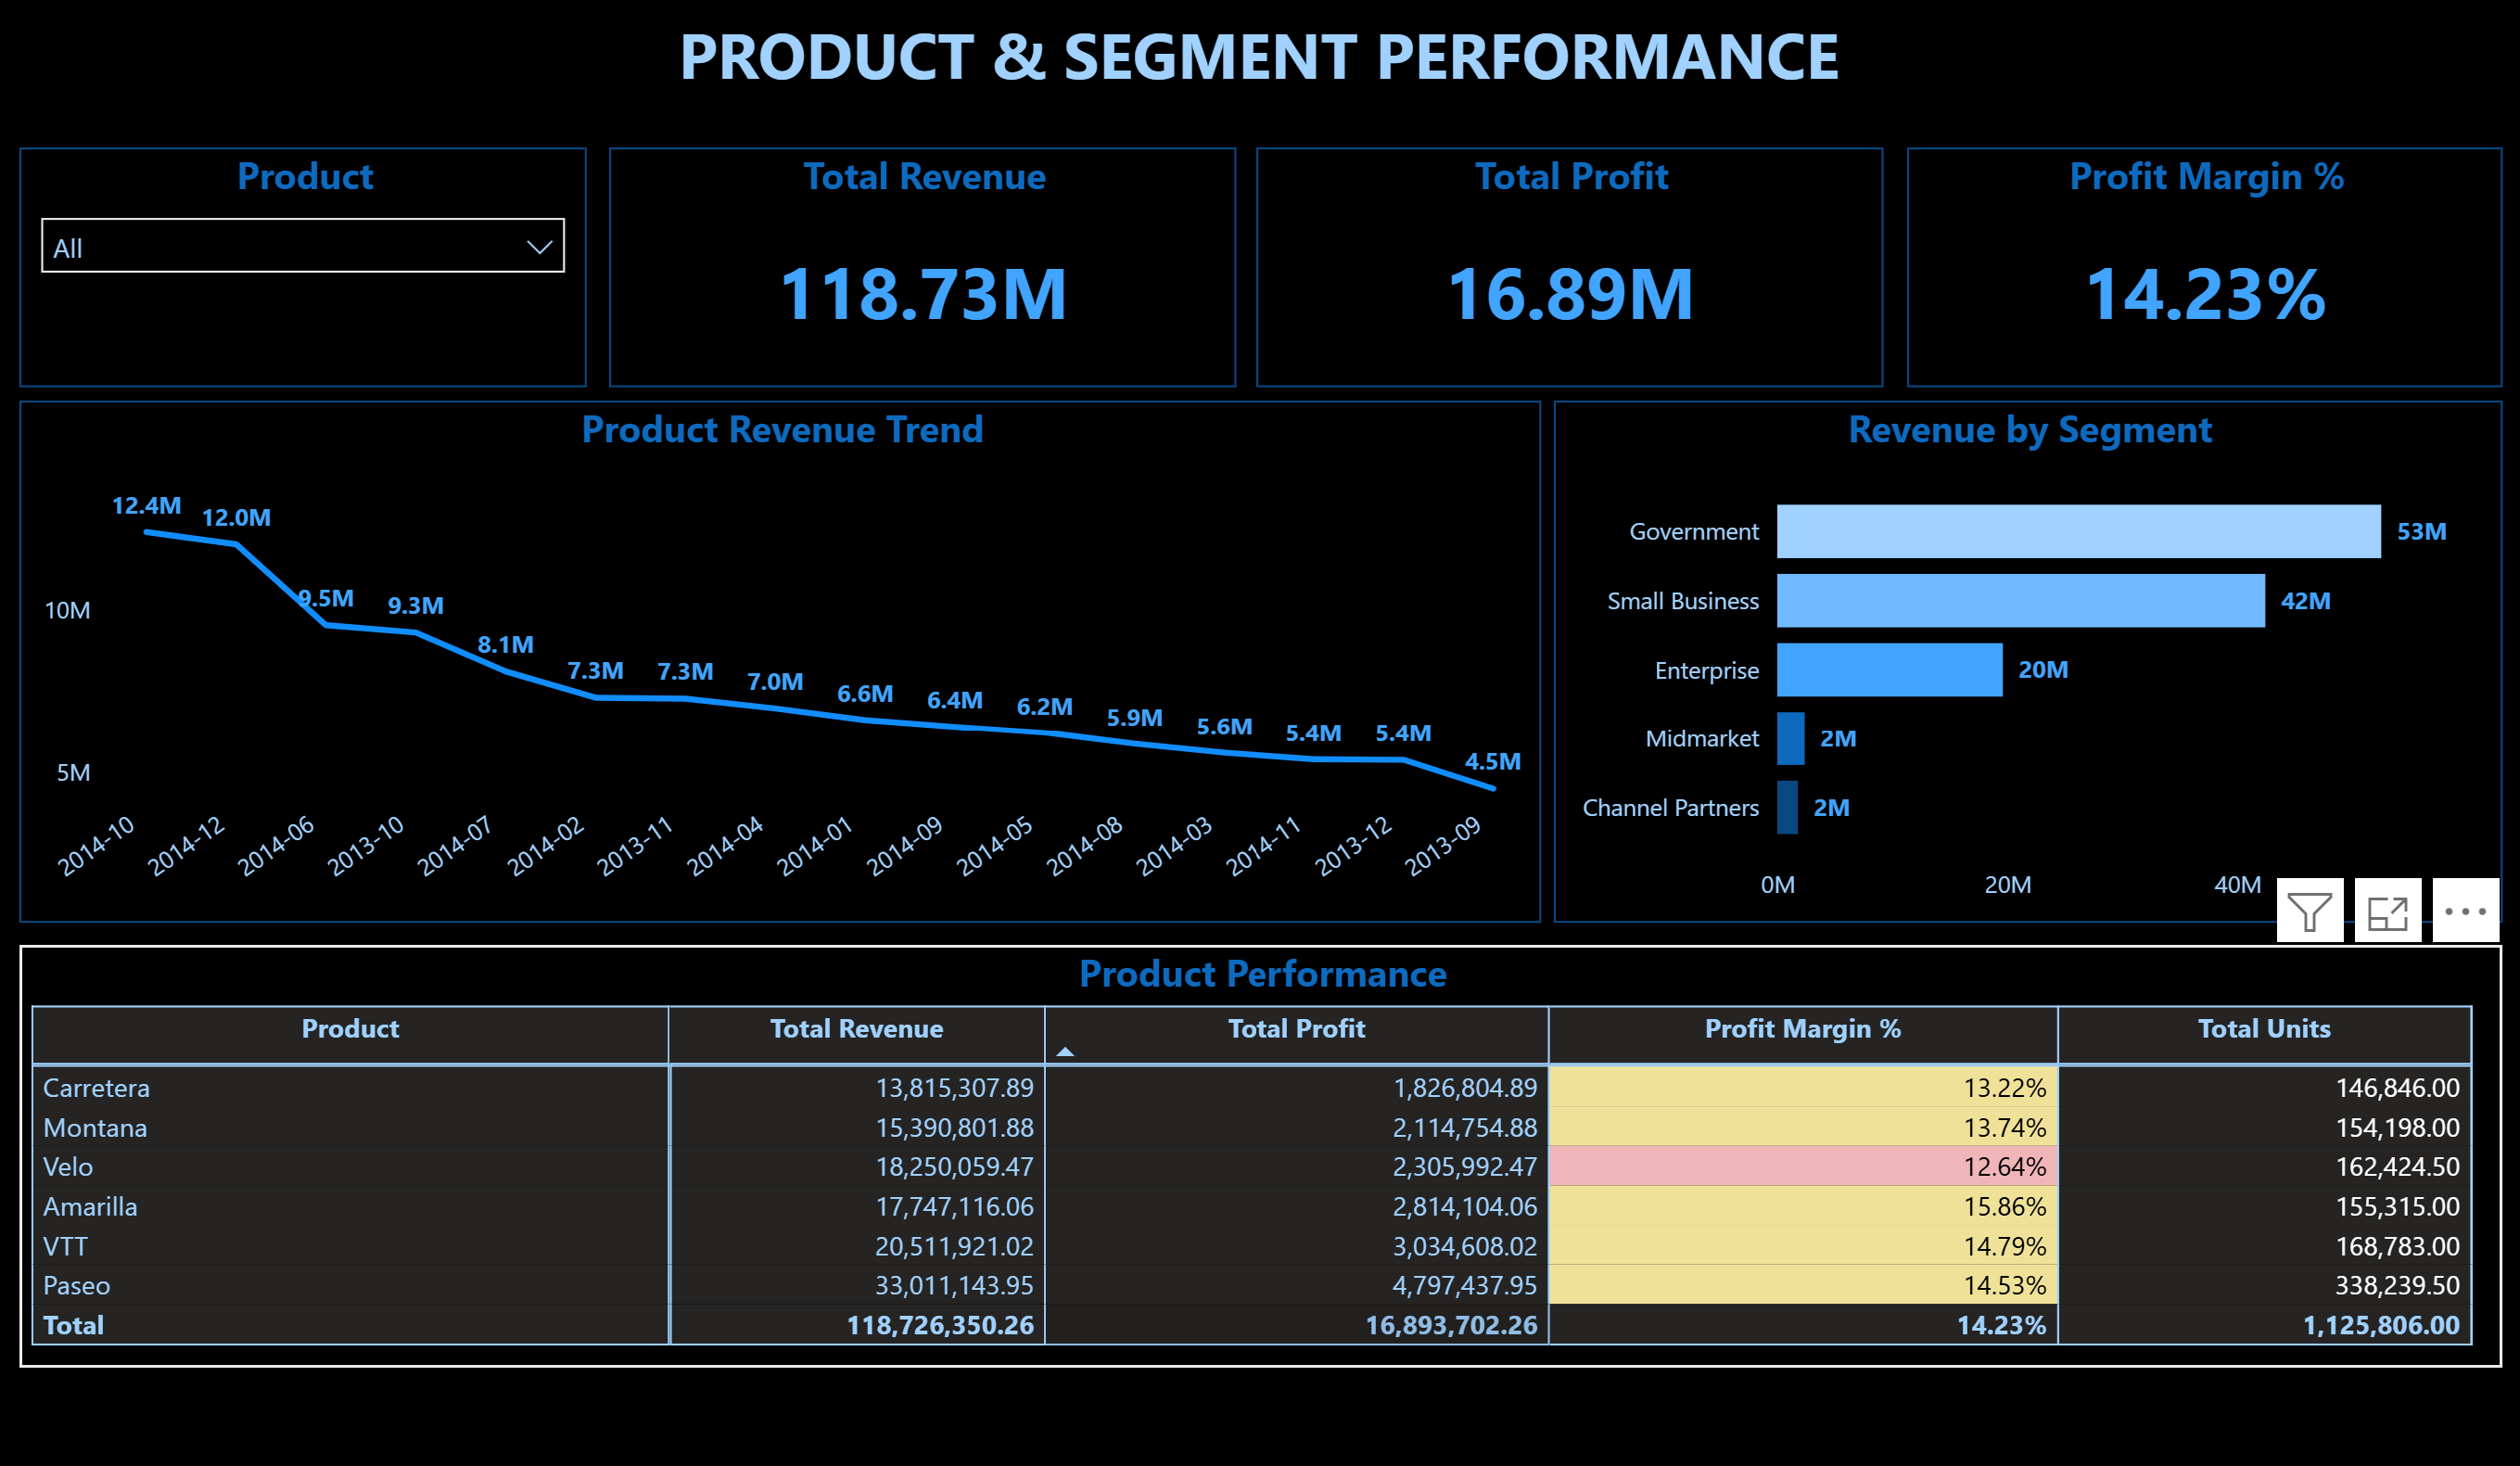

Layout of this report page (visuals, bound fields, positions):
{"tool":"powerbi","page":{"name":"Product Deep Dive","canvas":[1280,750],"ordinal":2},"visuals":[{"type":"lineChart","title":"Product Revenue Trend","fields":{"Category":["DimDates.Year-Month"],"Y":["Measure Table.Total Revenue"]},"box":[12.8,202.5,770.3,264.7],"z":0},{"type":"textbox","box":[0,0,1280,57.6],"z":1000},{"type":"slicer","title":"Product","fields":{"Values":["DimProduct.Product"]},"box":[12.8,75,287.1,121.2],"z":2000},{"type":"card","title":"Total Revenue","fields":{"Values":["Measure Table.Total Revenue"]},"box":[311,75,317.4,121.2],"z":3000},{"type":"card","title":"Total Profit","fields":{"Values":["Measure Table.Total Profit"]},"box":[639.5,75,317.4,121.2],"z":4000},{"type":"card","title":"Profit Margin %","fields":{"Values":["Measure Table.Profit Margin %"]},"box":[968,75,301.4,121.2],"z":5000},{"type":"barChart","title":"Revenue by Segment","fields":{"Y":["Measure Table.Total Revenue"],"Category":["DimSegment.Segment"]},"box":[789.4,202.5,480,264.7],"z":6000},{"type":"pivotTable","title":"Product Performance","fields":{"Rows":["DimProduct.Product"],"Values":["Measure Table.Total Revenue","Measure Table.Total Profit","Measure Table.Profit Margin %","Measure Table.Total Units"]},"box":[12.8,478.4,1256.7,213.7],"z":7000}]}

Visuals, with their boxes in screenshot pixels (x1, y1, x2, y2), scaled from the page's 1280x750 canvas onto the 2520x1466 screenshot:
"Product Revenue Trend" lineChart: x1=25 y1=396 x2=1542 y2=913
textbox: x1=0 y1=0 x2=2519 y2=112
"Product" slicer: x1=25 y1=147 x2=591 y2=384
"Total Revenue" card: x1=612 y1=147 x2=1237 y2=384
"Total Profit" card: x1=1259 y1=147 x2=1884 y2=384
"Profit Margin %" card: x1=1905 y1=147 x2=2499 y2=384
"Revenue by Segment" barChart: x1=1554 y1=396 x2=2499 y2=913
"Product Performance" pivotTable: x1=25 y1=935 x2=2500 y2=1353
